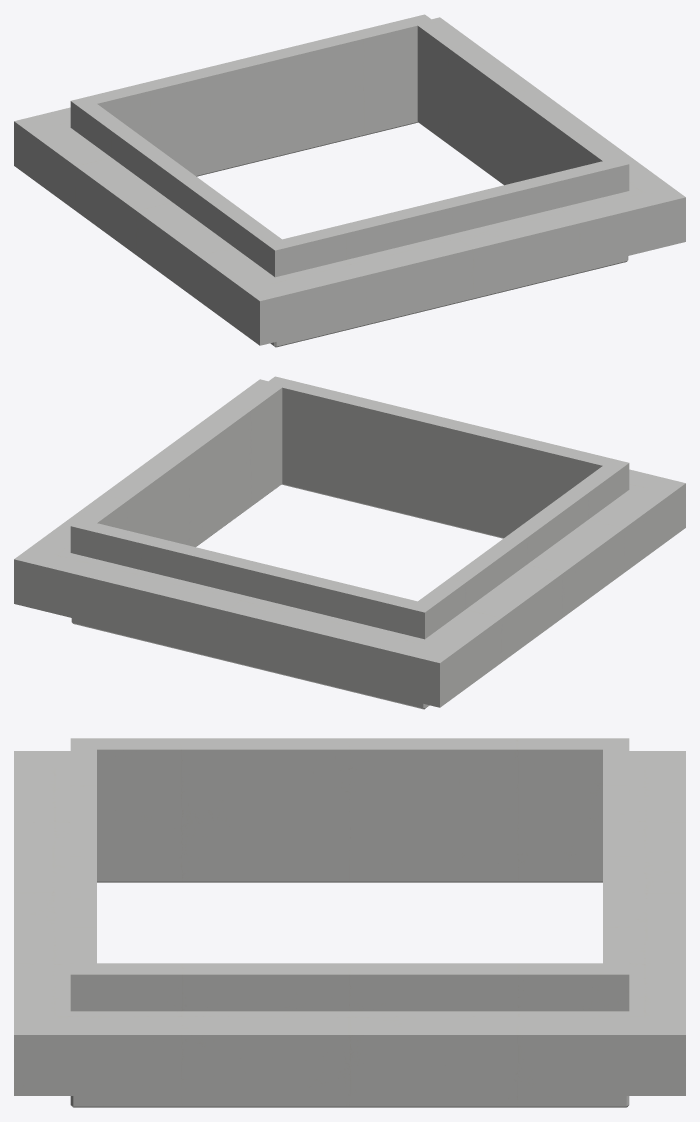
The model's file is CeilingOculus.fbx.
The picture shows the model from 3 angles, top to bottom: view 1: azimuth 30°, elevation 25°; view 2: azimuth 150°, elevation 25°; view 3: azimuth 270°, elevation 25°; orthographic projection. The views are drawn at different scales.
Parts seen in each view (by area): view 1: CeilingOculus; view 2: CeilingOculus; view 3: CeilingOculus.
Part boxes in pixels (bbox=[...]): CeilingOculus: bbox=[14, 14, 685, 347]; CeilingOculus: bbox=[14, 376, 685, 709]; CeilingOculus: bbox=[14, 738, 685, 1107].
Bounding box in the file's own units: 500 × 110 × 500.
